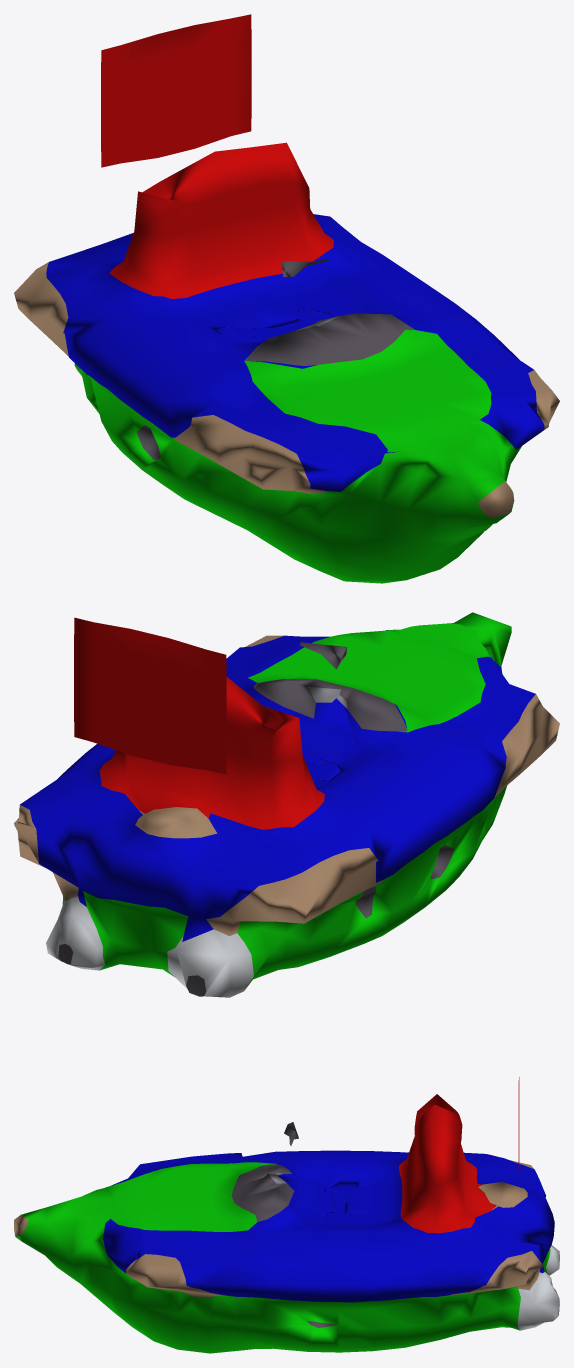
File: body_ship_lo.glb
3 renders of one model, top to bottom at view 1: azimuth 30°, elevation 25°; view 2: azimuth 150°, elevation 25°; view 3: azimuth 270°, elevation 25°, orthographic. The views are drawn at different scales.
Visible parts, largest first — view 1: body_ship_lo; view 2: body_ship_lo; view 3: body_ship_lo.
Boxes of the visible parts, box(x1,y1,x2,y2) form: body_ship_lo: box(14, 14, 559, 583); body_ship_lo: box(14, 612, 559, 997); body_ship_lo: box(14, 1077, 559, 1353).
Bounding box in the file's own units: 23.71 × 26.24 × 44.04.
